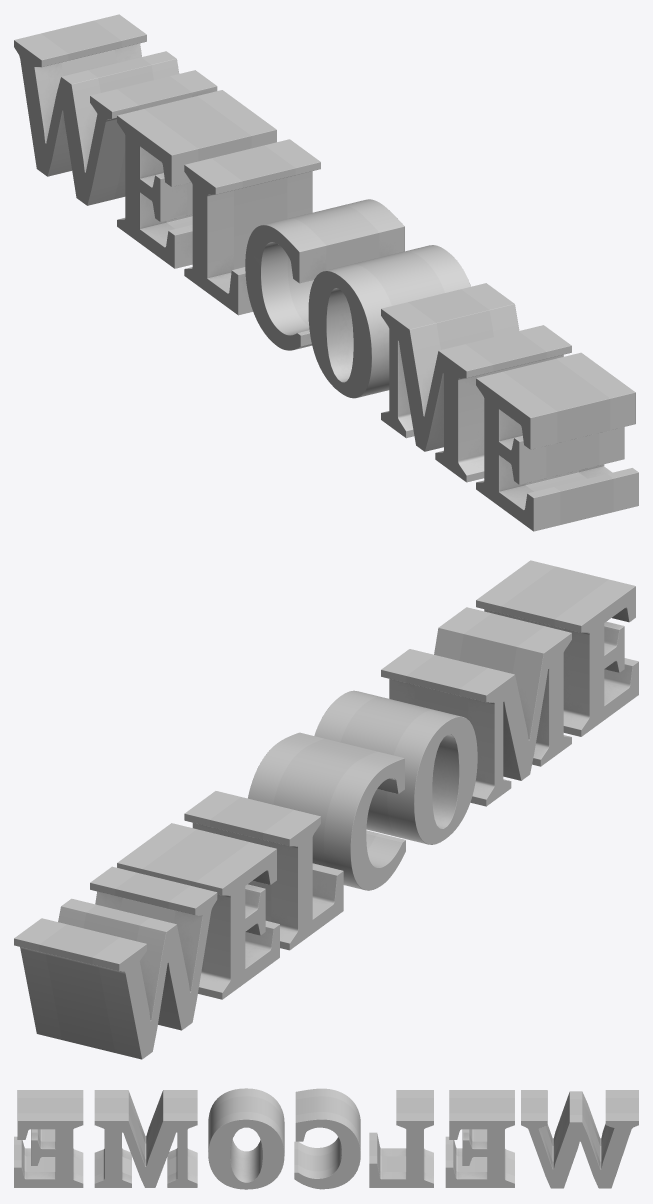
File: SM_WelcomeSignS.fbx
3 views of the same model, one above another, from view 1: azimuth 30°, elevation 25°; view 2: azimuth 150°, elevation 25°; view 3: azimuth 270°, elevation 25° (orthographic). The views are drawn at different scales.
Visible parts, largest first — view 1: SM_WelcomeSignS_LOD0; view 2: SM_WelcomeSignS_LOD0; view 3: SM_WelcomeSignS_LOD0.
Boxes of the visible parts, x1,y1,x2,y2 form: SM_WelcomeSignS_LOD0: (14,14,638,531); SM_WelcomeSignS_LOD0: (14,560,638,1059); SM_WelcomeSignS_LOD0: (14,1088,638,1189).
Size of the model in its own units: 89.45 by 757 by 93.62.
2 materials, 1 textured.
